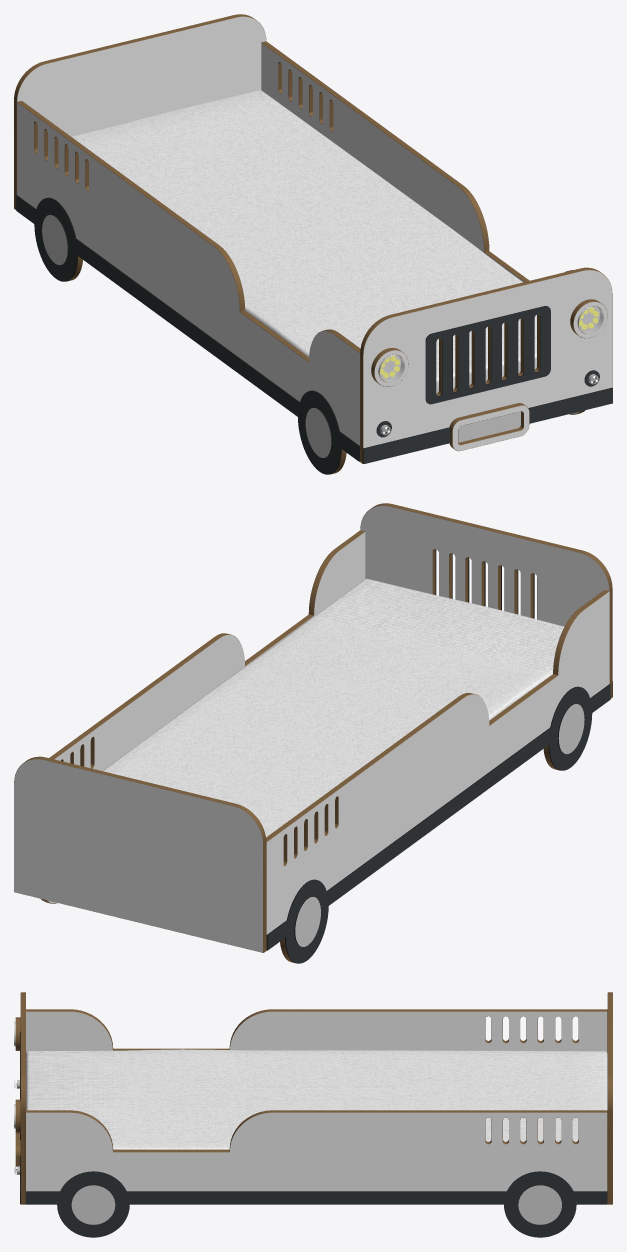
File: Bed200x80.glb
3 renders of one model, top to bottom at view 1: azimuth 30°, elevation 25°; view 2: azimuth 150°, elevation 25°; view 3: azimuth 270°, elevation 25°, orthographic. The views are drawn at different scales.
Parts seen in each view (by area): view 1: Bed200x80; view 2: Bed200x80; view 3: Bed200x80.
Part boxes in pixels (x1,y1,x2,y2): Bed200x80: (14, 14, 612, 474); Bed200x80: (14, 503, 612, 963); Bed200x80: (14, 992, 612, 1237).
Bounding box in the file's own units: 0.852 × 0.575 × 2.06.
Materials: 17 (4 with a texture image).
